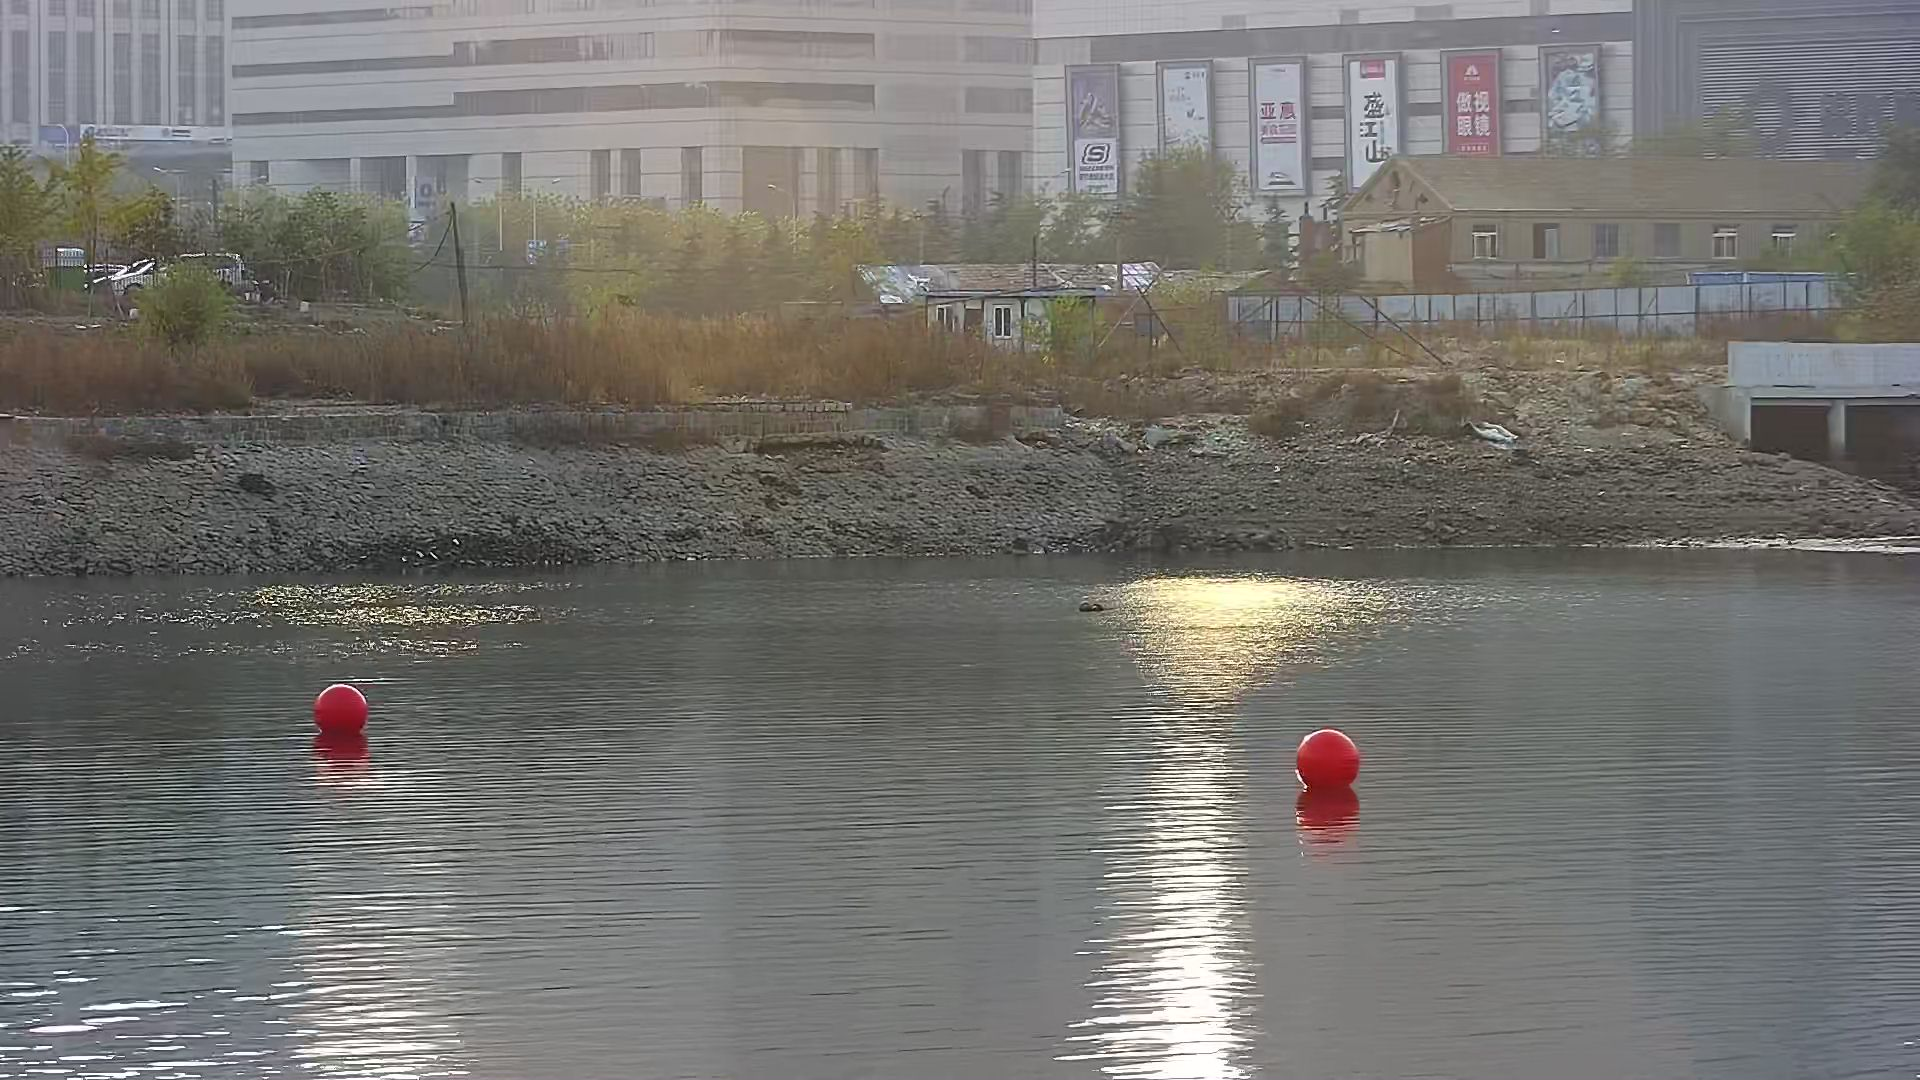ball: (1291, 729, 1362, 807), (309, 684, 373, 737)
rubbish: (1073, 596, 1112, 617)
